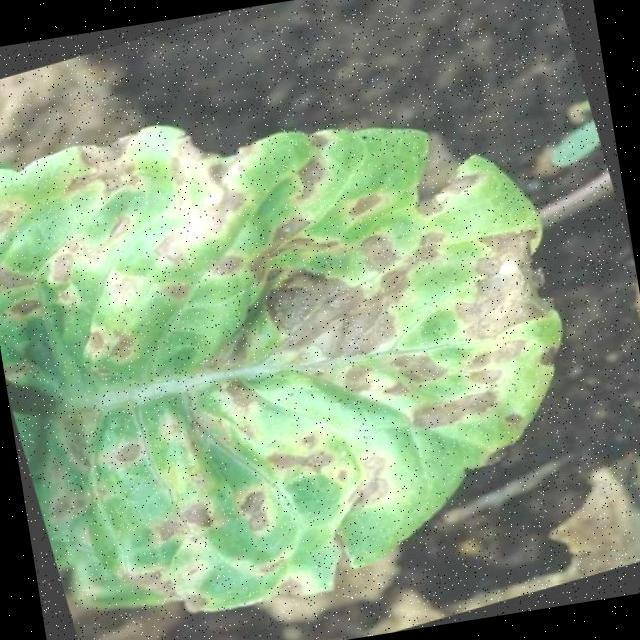Septoria_Blight_on_lettuce: (0, 23, 611, 640)
